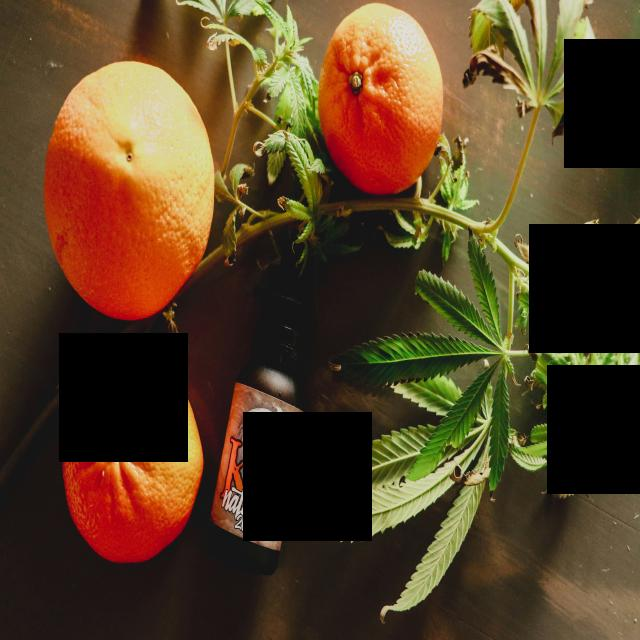tangerine: (63, 355, 204, 567), (318, 4, 445, 198)
